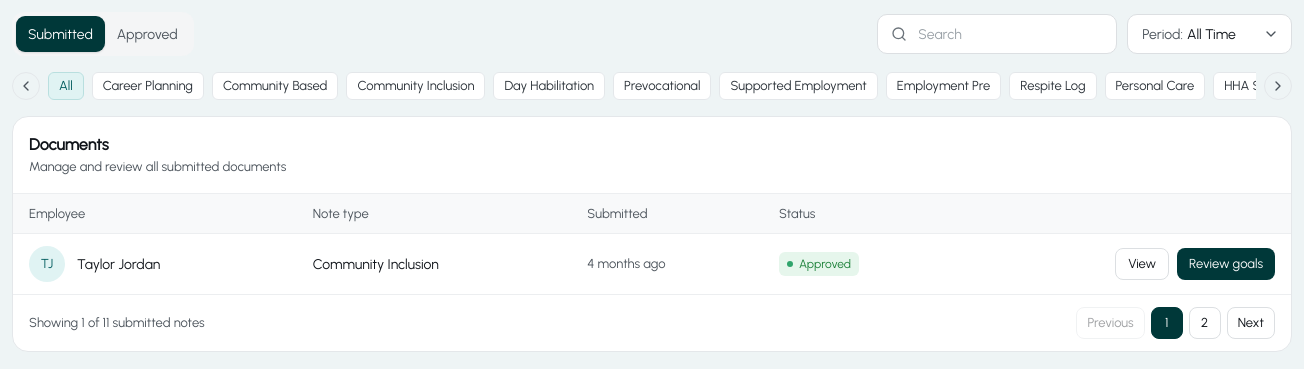
Test: shows the goal alignment for approved community inclusion logs
This screenshot has width=1304, height=369.
Click the button "Approved".
click(147, 34)  # box [105,16,190,52]
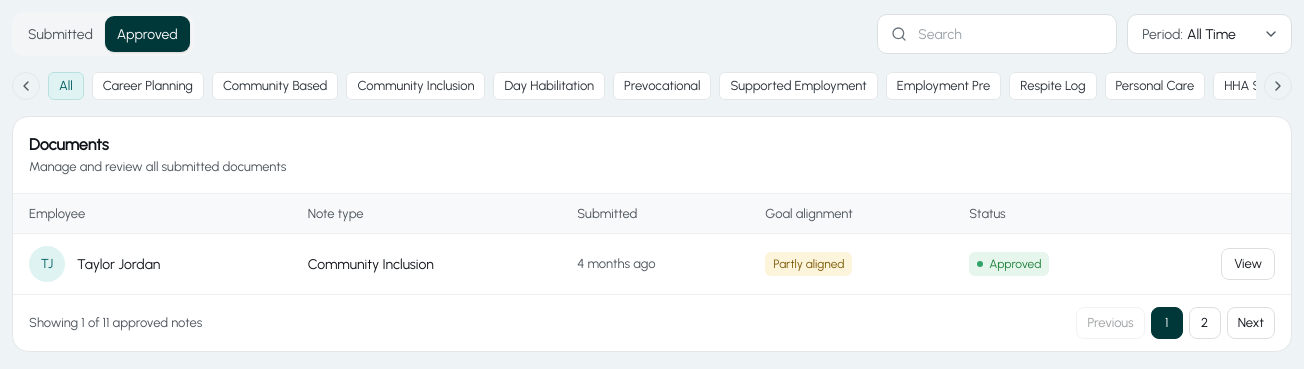
Expected: the text "Partly aligned" is shown, [765,252,852,276]
